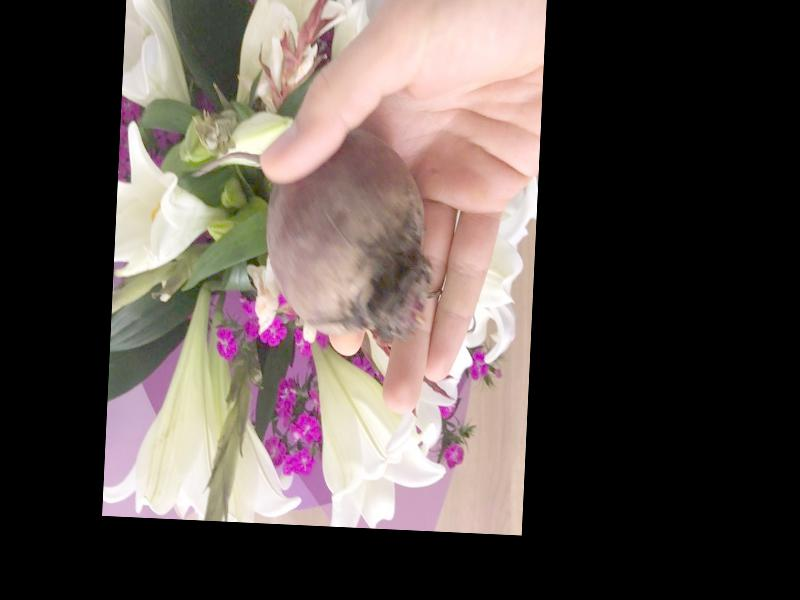Beet: (185, 124, 432, 342)
